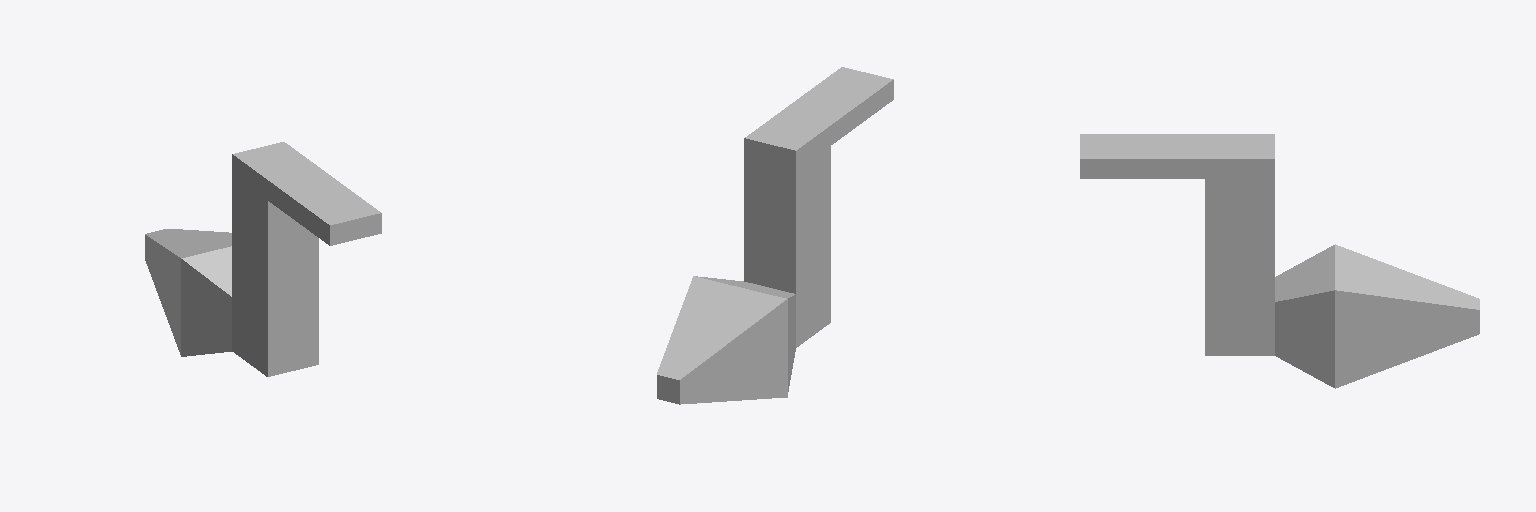
Rendered from boxes.obj.
3 renders of one model, left to right at view 1: azimuth 30°, elevation 25°; view 2: azimuth 150°, elevation 25°; view 3: azimuth 270°, elevation 25°, orthographic.
Parts seen in each view (by area): view 1: Cube_Cube.001; view 2: Cube_Cube.001; view 3: Cube_Cube.001.
Part boxes in pixels (x1,y1,x2,y2): Cube_Cube.001: (145, 142, 381, 376); Cube_Cube.001: (657, 67, 893, 404); Cube_Cube.001: (1080, 134, 1479, 388).
Bounding box in the file's own units: 3.64 × 8.12 × 13.38.